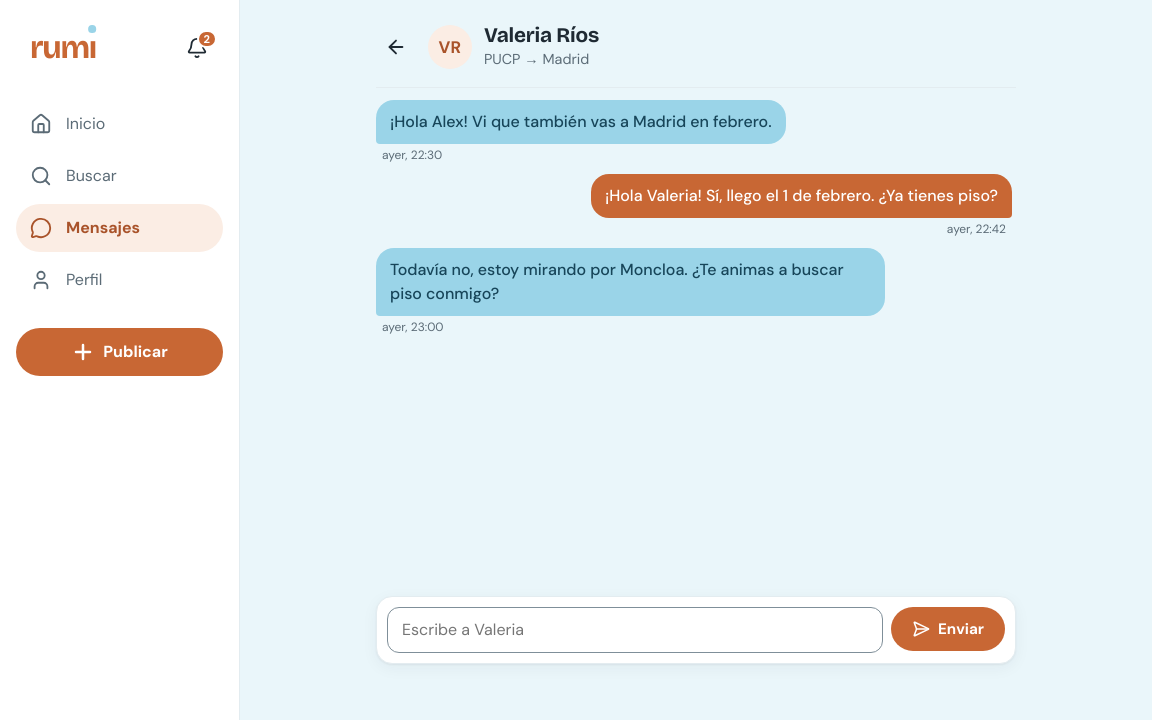
Scenario: un error inesperado al enviar se muestra arriba de la caja de texto
The width and height of the screenshot is (1152, 720).
In the field named "Mensaje": (635, 630) [387,607,883,653], type "Hola"
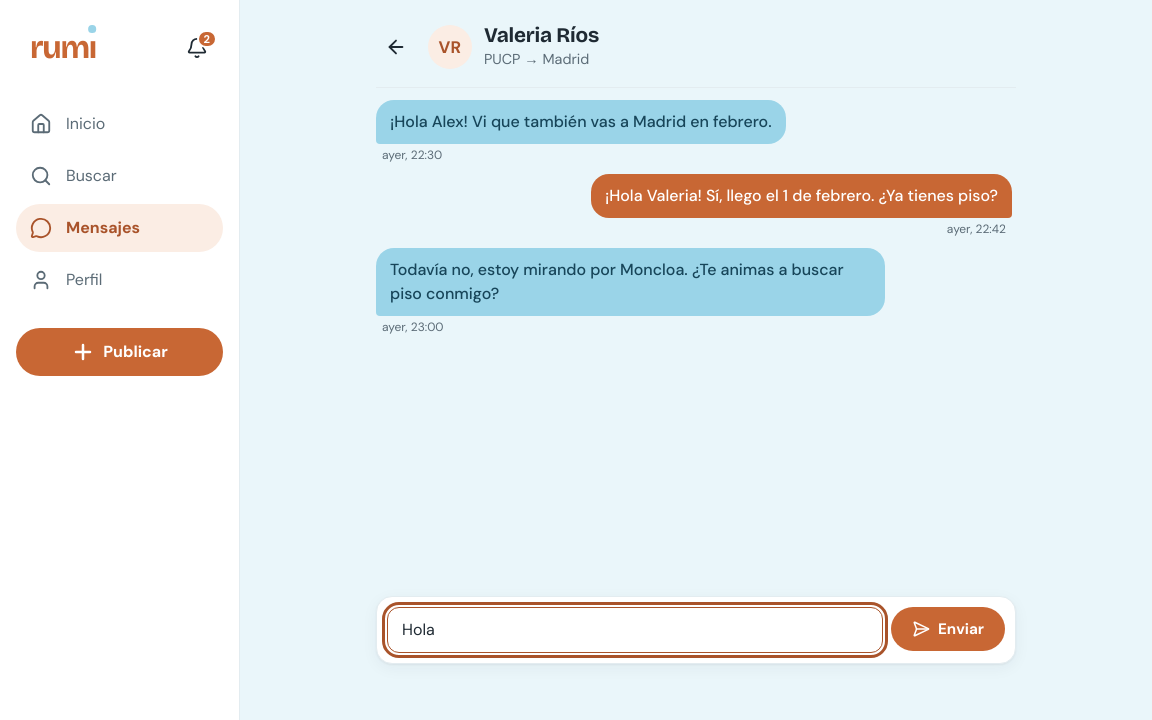
Click the button "Enviar": (948, 629) [891,607,1005,651]
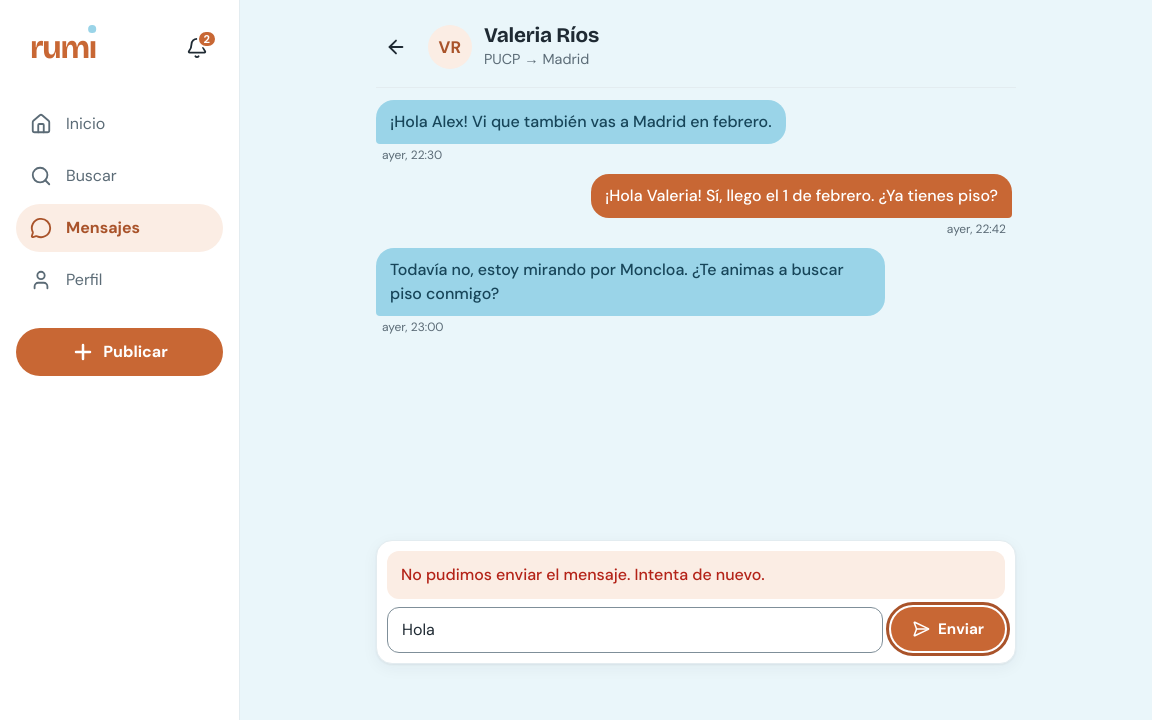
Expected: the message reads "No pudimos enviar el mensaje. Intenta de nuevo.", [401,564,765,585]
